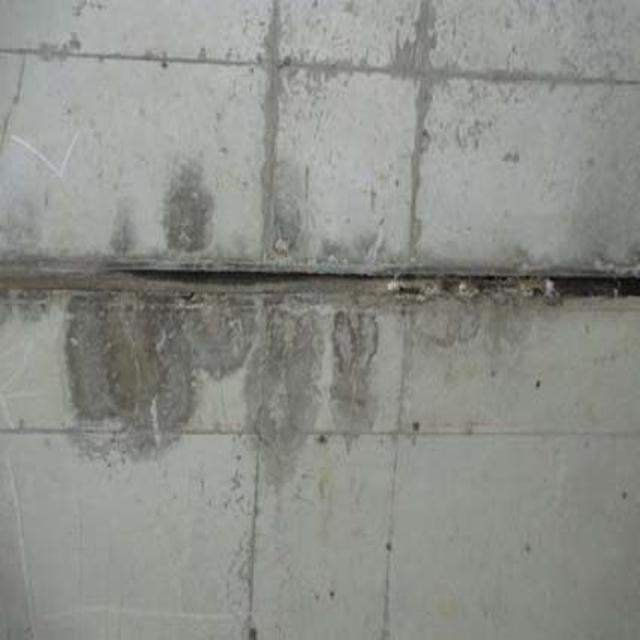leakage: (40, 272, 397, 484)
